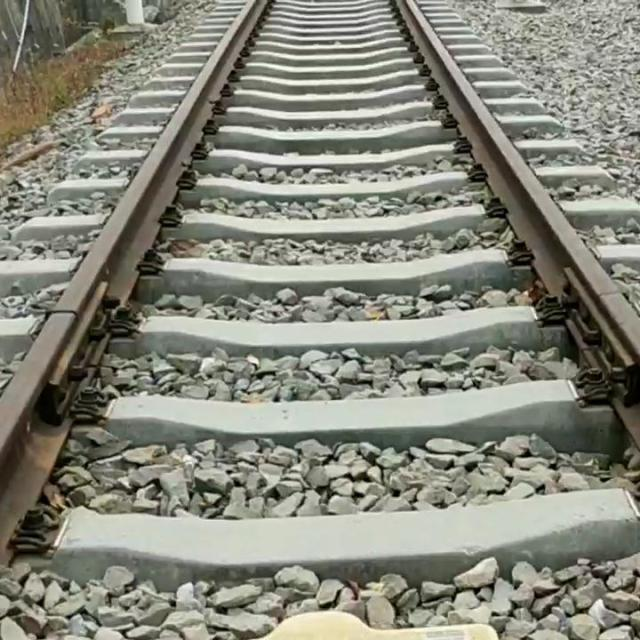rail: (0, 0, 267, 561), (399, 0, 640, 449)
